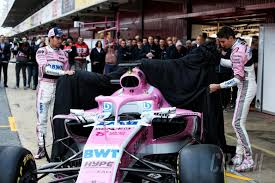FormulaOneCar: (1, 60, 225, 183)
